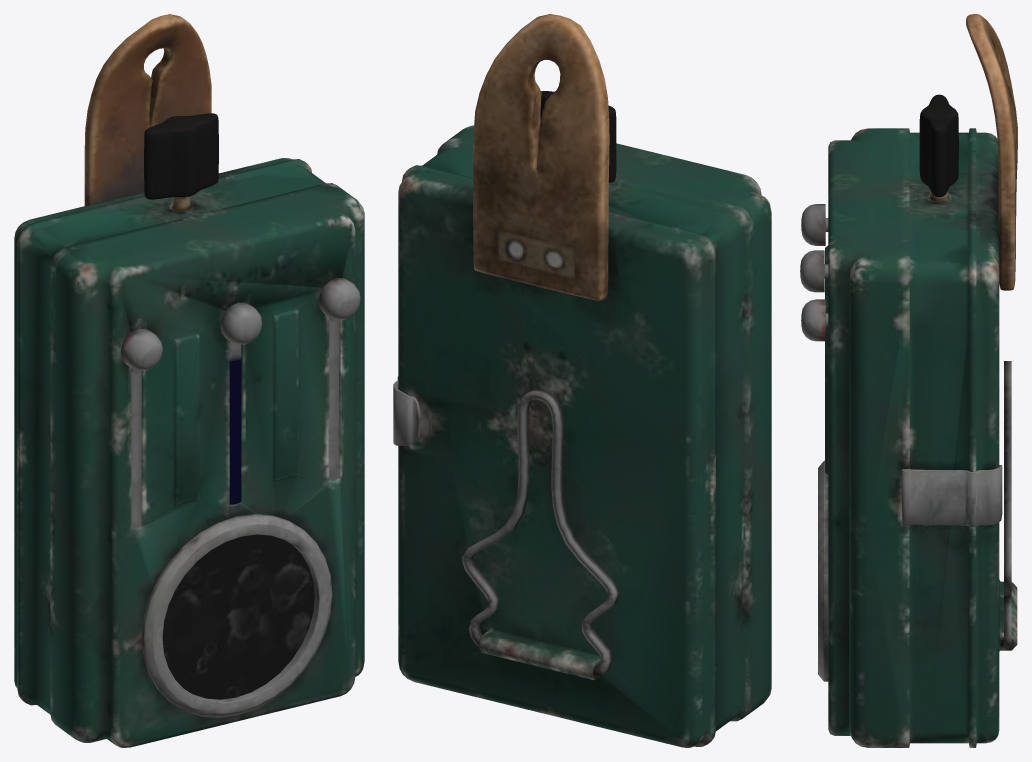
The model's file is signal_flashlight.glb.
3 views of the same model, side by side, from view 1: azimuth 30°, elevation 25°; view 2: azimuth 150°, elevation 25°; view 3: azimuth 270°, elevation 25° (orthographic). The views are drawn at different scales.
Visible parts, largest first — view 1: signal_flashlight_clip, signal_flashlight; view 2: signal_flashlight_clip; view 3: signal_flashlight_clip.
Boxes of the visible parts, <box> form: signal_flashlight_clip: <box>14,14,364,747</box>; signal_flashlight: <box>162,358,314,699</box>; signal_flashlight_clip: <box>393,14,771,747</box>; signal_flashlight_clip: <box>800,14,1017,747</box>.
Bounding box in the file's own units: 0.071 × 0.1499 × 0.0445.
2 materials, 2 textured.
